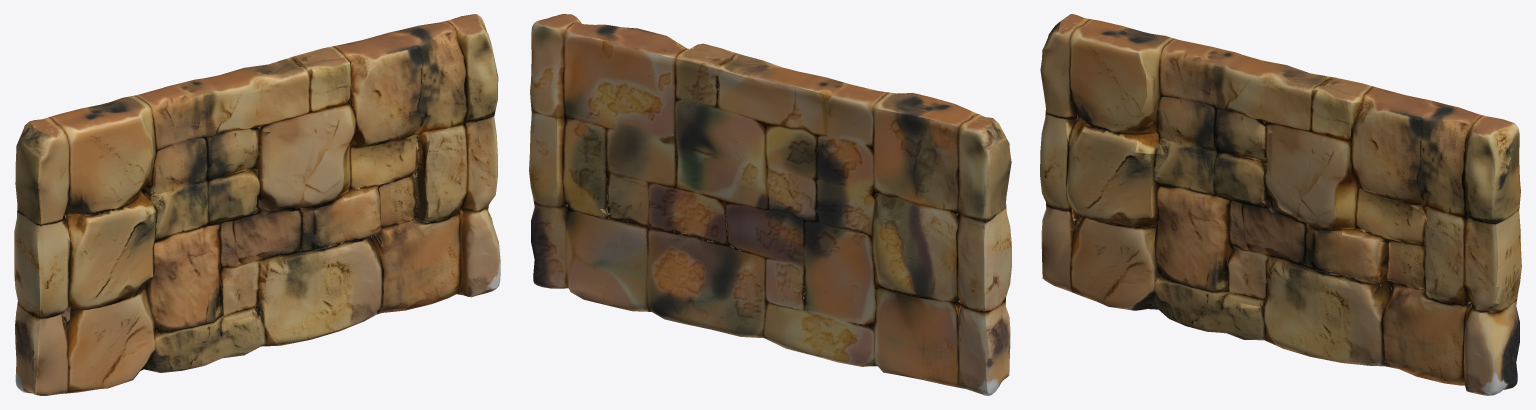
The model's file is Meshy_AI_Stonework_Puzzle_0102175202_texture.fbx.
The picture shows the model from 3 angles, left to right: view 1: azimuth 30°, elevation 25°; view 2: azimuth 150°, elevation 25°; view 3: azimuth 330°, elevation 25°; orthographic projection.
Parts seen in each view (by area): view 1: Mesh0; view 2: Mesh0; view 3: Mesh0.
Boxes of the visible parts, x1=… form: Mesh0: x1=14, y1=14, x2=500, y2=395; Mesh0: x1=529, y1=14, x2=1011, y2=395; Mesh0: x1=1040, y1=14, x2=1521, y2=395.
Size of the model in its own units: 535 by 300 by 63.
Materials: 1 (1 with a texture image).
